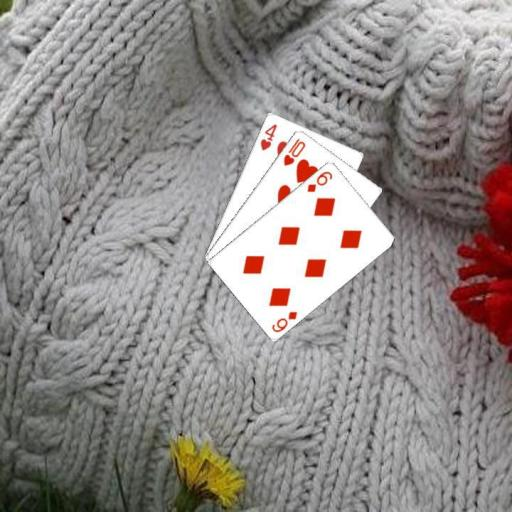10H: (280, 135, 307, 167)
4H: (257, 120, 278, 152)
6D: (304, 168, 334, 193), (269, 308, 299, 333)
